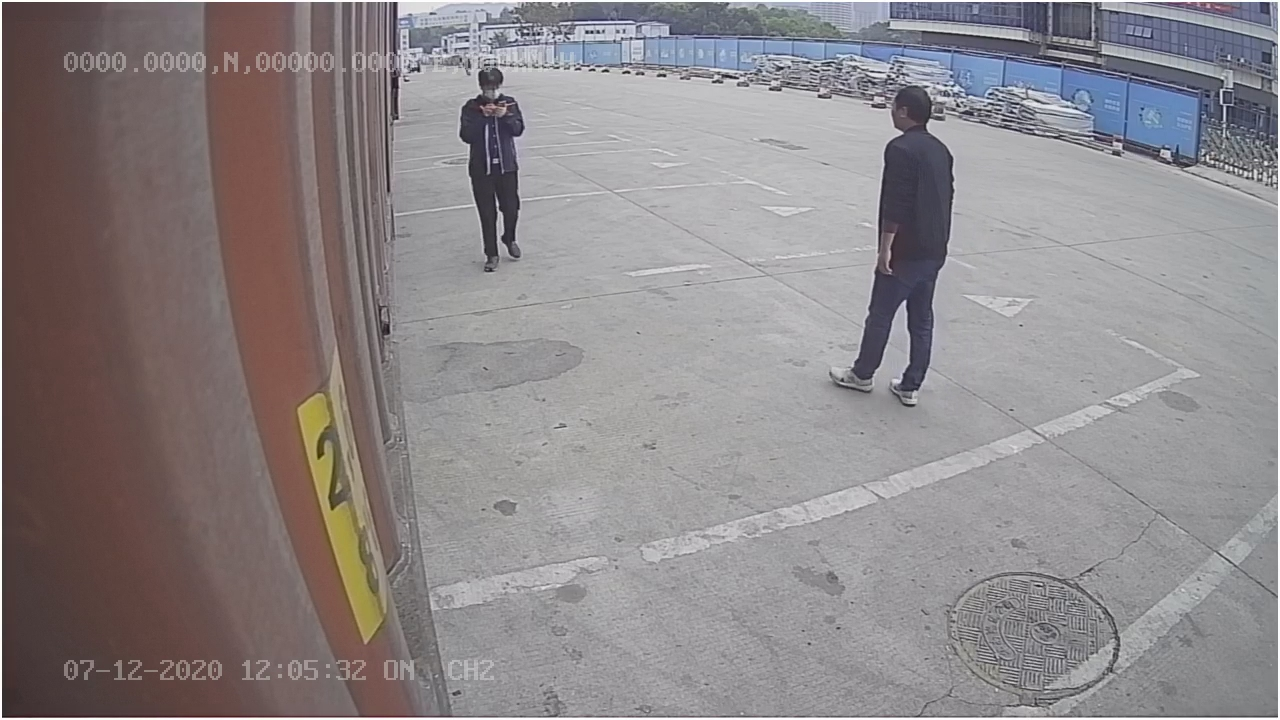person: (818, 86, 961, 411)
